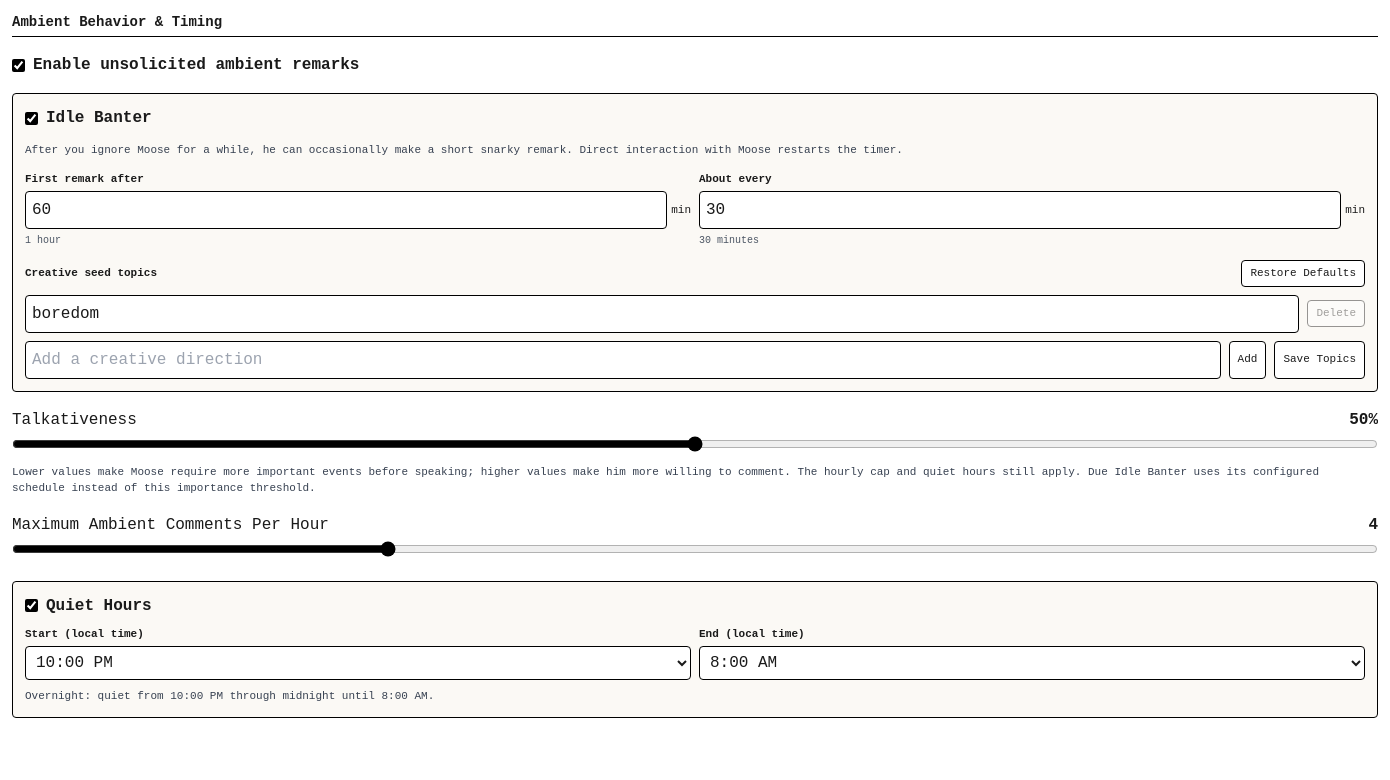
Test: Idle Banter behavior settings › rejects duplicate topics accessibly and prevents deleting the final topic
Expected: the button with aria-label "Delete Idle Banter seed topic 1" is disabled, [1307,300,1365,327]
Type "  BOREDOM " into the field named "New Idle Banter seed topic" at (623, 360), box [25,340,1221,378]
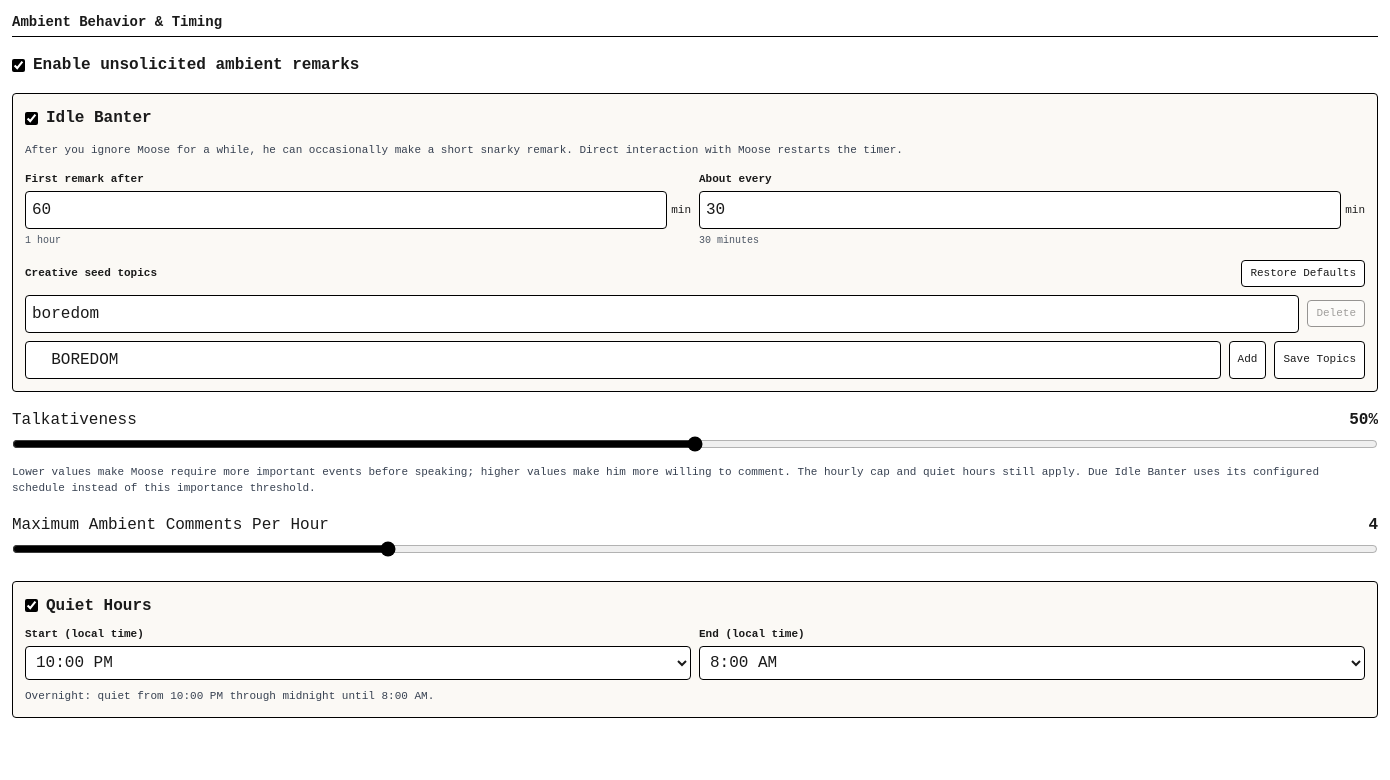
Click the button "Add" at (1248, 360), box [1229,340,1266,378]
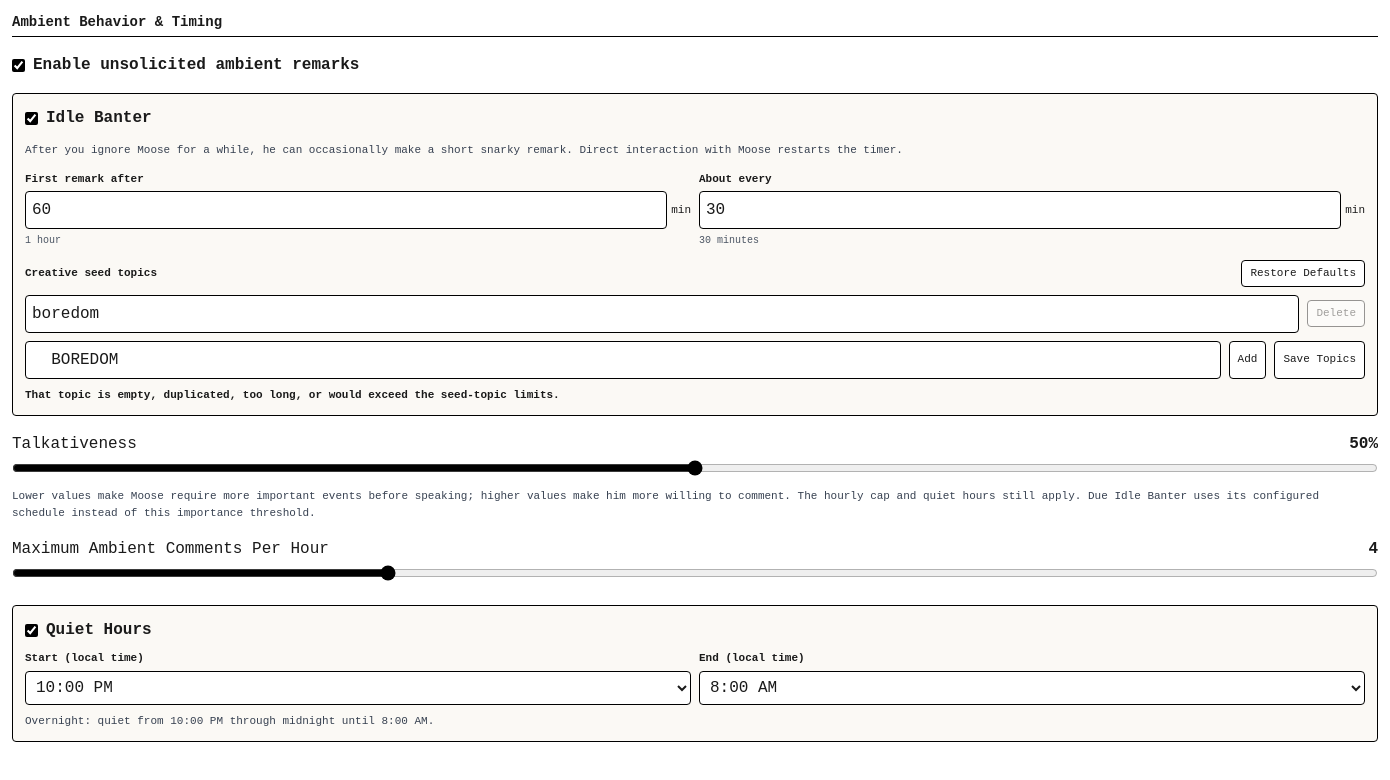
Result: the message shows "duplicated" at [25,388,560,400]
